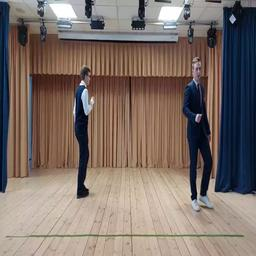person: (183, 57, 214, 212), (73, 65, 95, 198)
